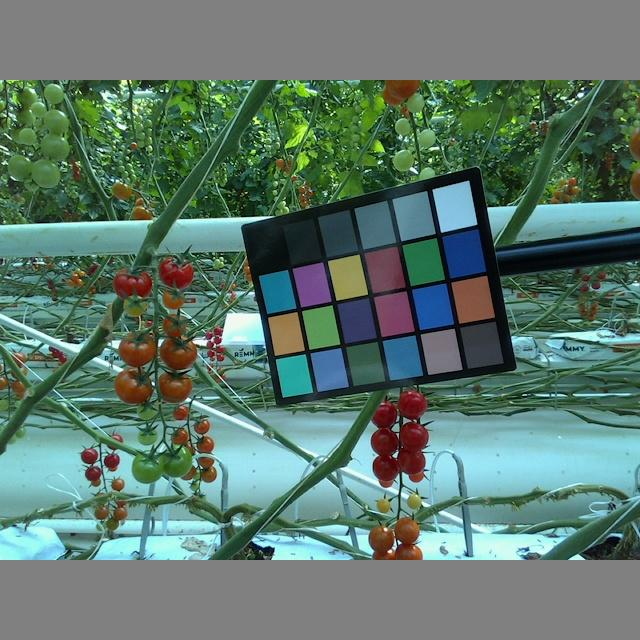green: (132, 449, 165, 484), (158, 446, 194, 478), (29, 159, 62, 190), (40, 136, 73, 163), (6, 153, 33, 181), (41, 111, 73, 133), (123, 296, 148, 321), (136, 399, 159, 423), (42, 83, 66, 104), (396, 144, 414, 172), (136, 427, 158, 448), (417, 128, 438, 150), (15, 85, 36, 105), (407, 92, 426, 114), (18, 125, 35, 146), (396, 117, 410, 137)
pink: (112, 366, 153, 404), (119, 327, 157, 364), (158, 336, 199, 370), (156, 370, 194, 406), (160, 312, 187, 339), (368, 525, 394, 553), (394, 515, 418, 539), (382, 82, 404, 106), (162, 290, 187, 308), (168, 427, 191, 446), (396, 545, 423, 560), (628, 166, 640, 198), (630, 127, 640, 157), (194, 416, 210, 433), (406, 493, 422, 508), (171, 405, 187, 419), (378, 498, 391, 512)
red: (156, 255, 194, 290), (113, 268, 151, 302), (396, 387, 428, 417), (401, 422, 432, 451), (369, 402, 399, 430), (372, 454, 402, 481), (374, 429, 401, 456), (396, 448, 417, 477)
